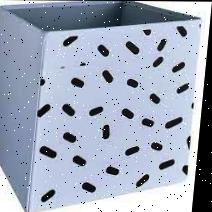cube: (0, 0, 204, 212)
